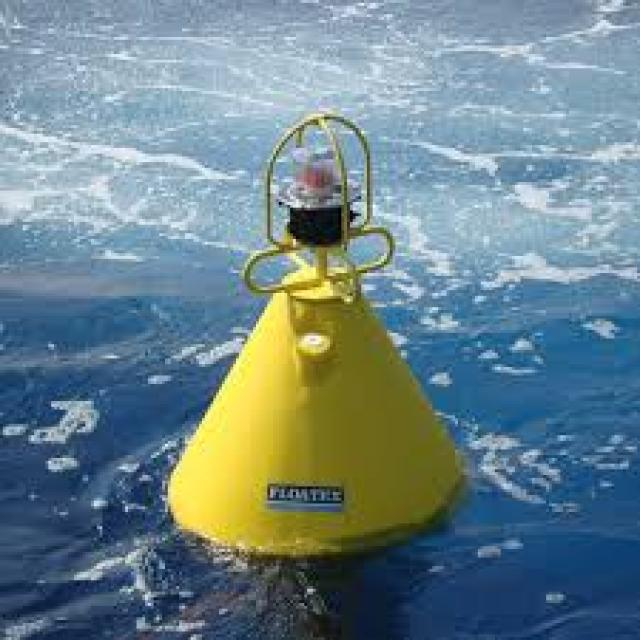buoy: (162, 82, 478, 569)
